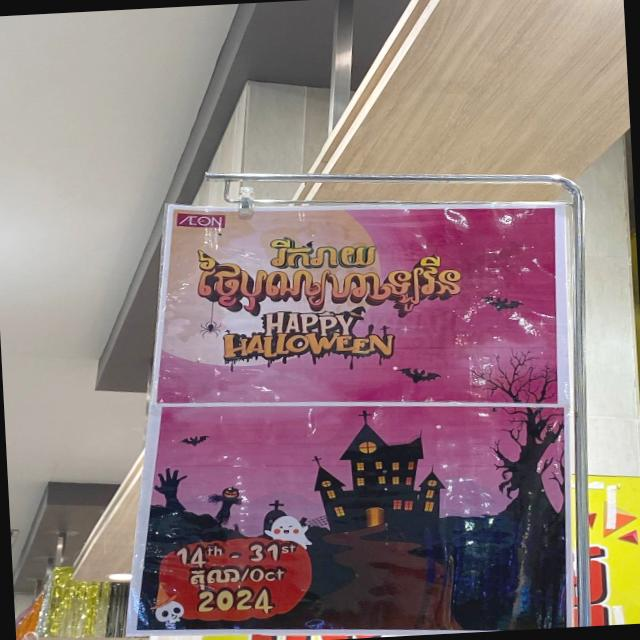583: (176, 543, 213, 568)
63: (228, 541, 284, 565)
650: (194, 588, 277, 615)
Yolov11_80vkh: (193, 249, 463, 314), (264, 234, 383, 268), (185, 565, 244, 589)
